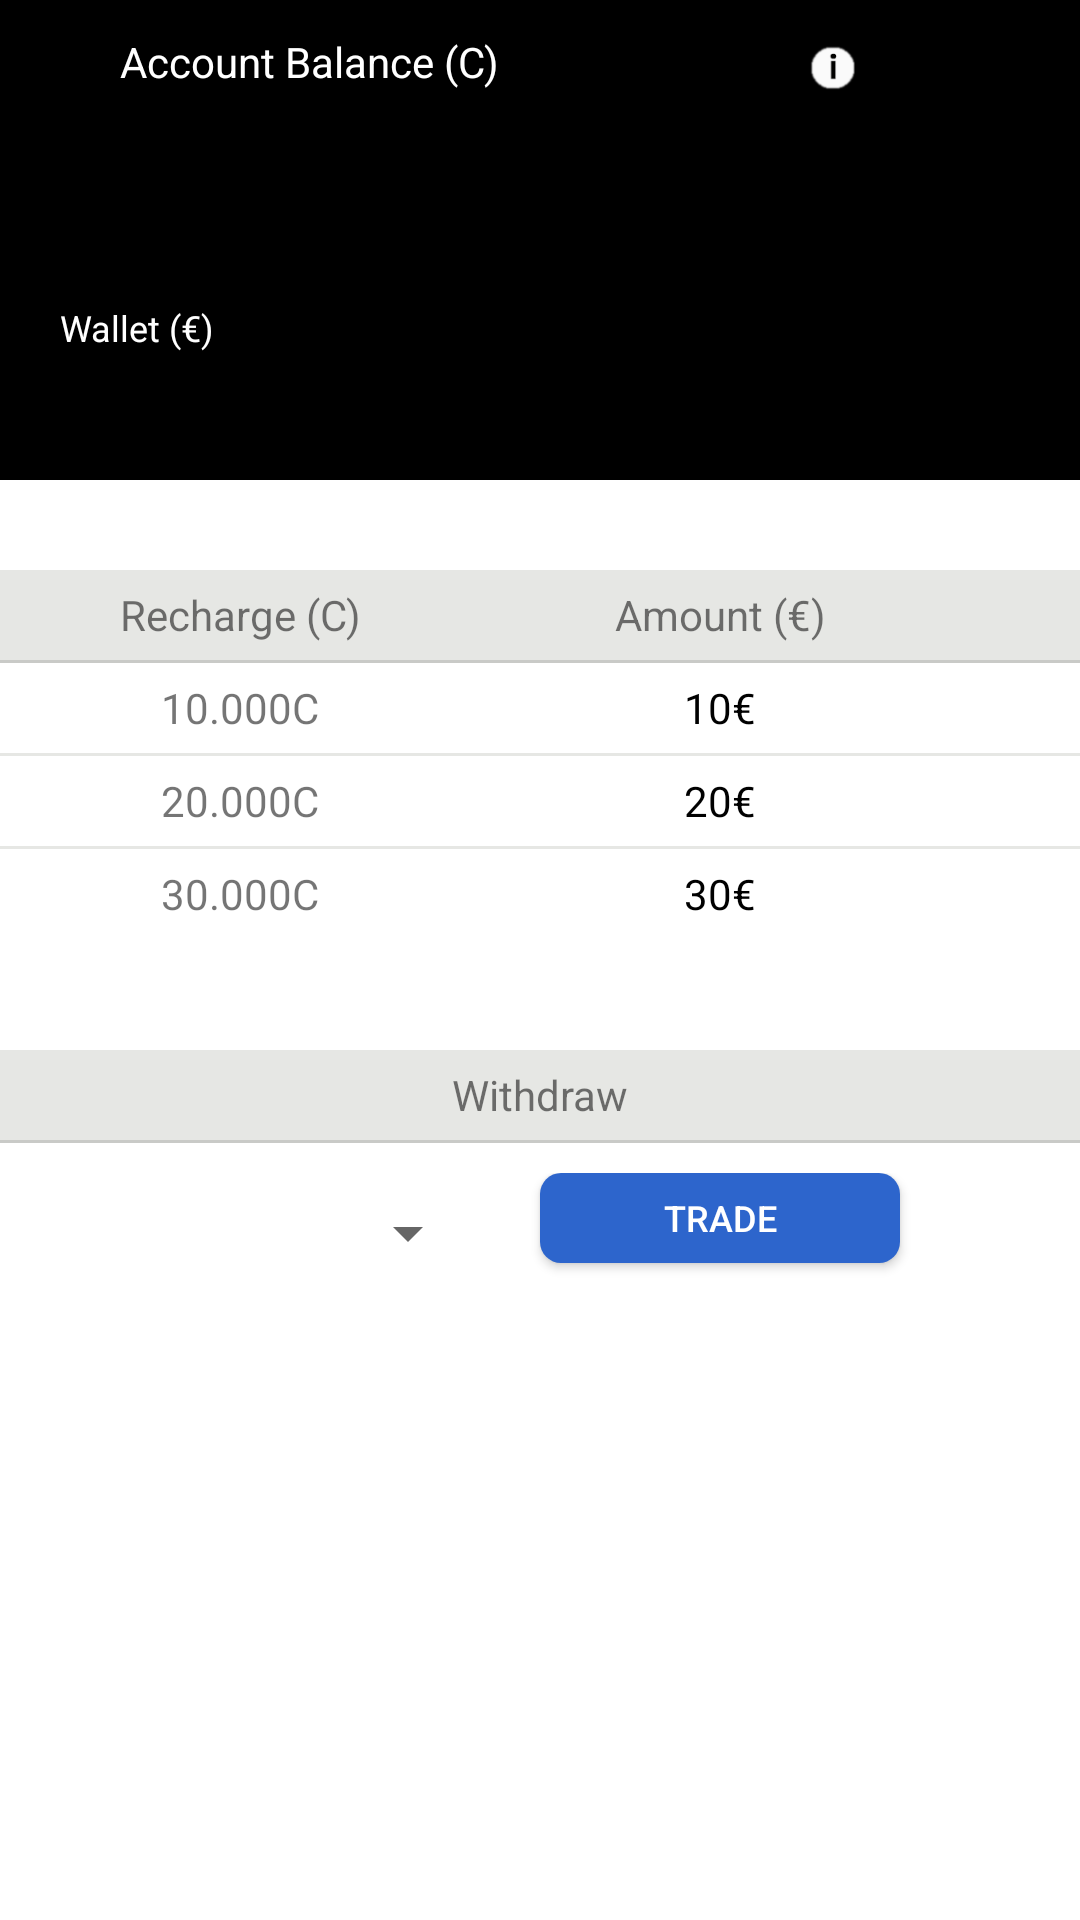

Screen size 1080 x 1920. Icon name, then its center in pixels as point (x, y):
informacao: point (833, 68)
